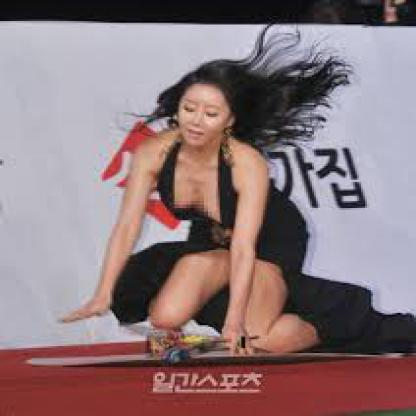Fall_Down: (50, 35, 386, 361)
